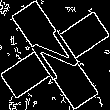N_SE: (24, 23, 86, 87)
